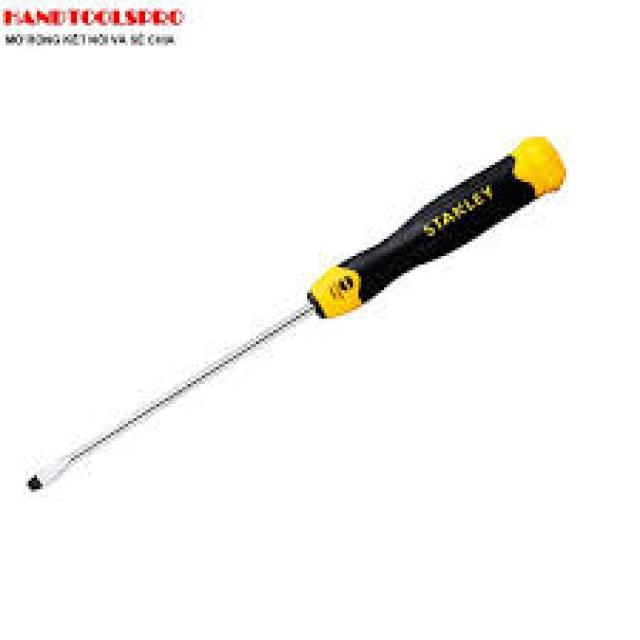screwdriver: (17, 130, 566, 497)
